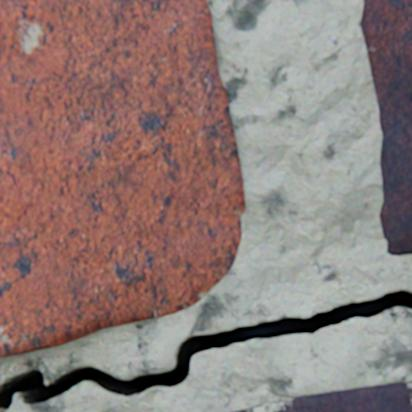brick: (0, 0, 245, 357), (360, 0, 411, 255), (232, 381, 411, 411)
crack: (0, 289, 411, 411)
